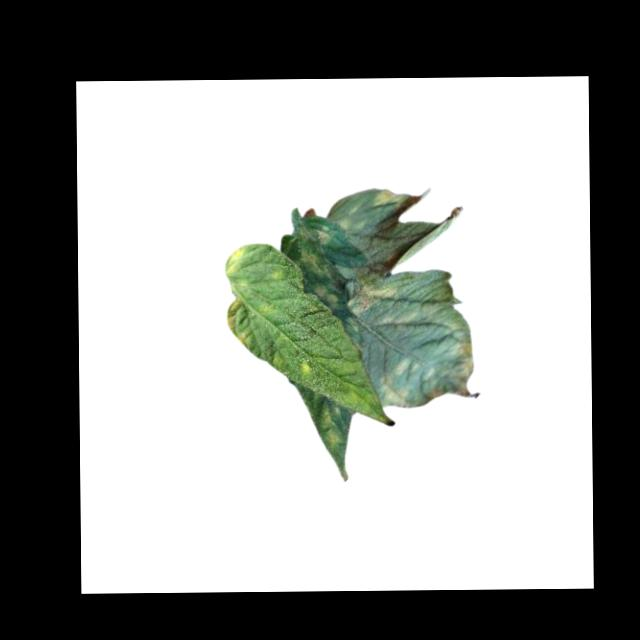Leaf_Mold: (299, 248, 341, 309), (351, 266, 398, 315), (378, 354, 417, 409), (451, 342, 482, 401), (225, 299, 252, 352), (317, 402, 341, 449), (226, 246, 249, 282), (374, 187, 404, 211)
